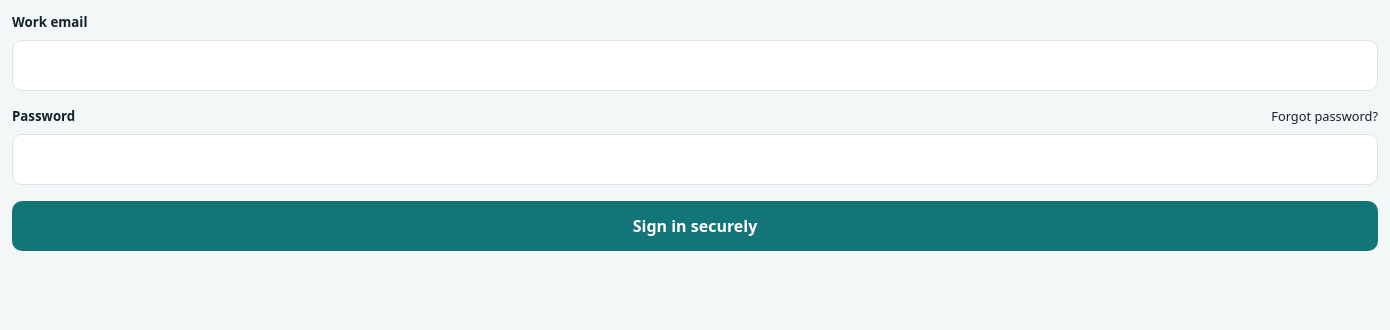
Test: LoginForm › shows a safe invalid-credentials message
Type "doctor@example.com" into the field labelled "Work email". click: (695,66)
box: [12, 40, 1378, 91]
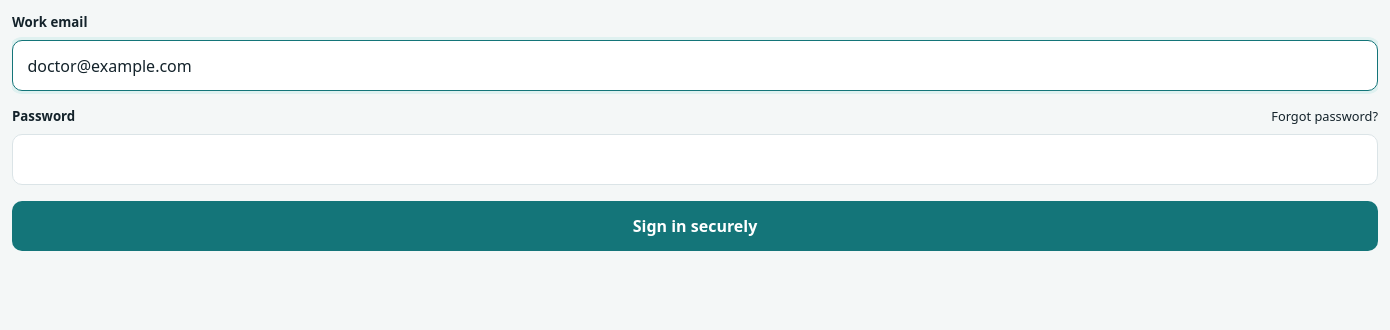
Type "wrong-password" into the password field labelled "Password". click: (695,160)
box: [12, 134, 1378, 185]
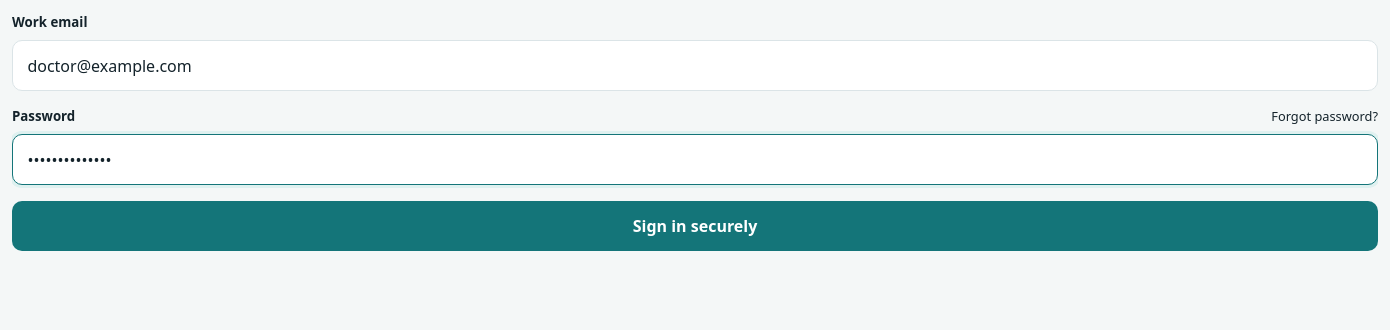
Click the button "Sign in securely". click: (695,226)
box: [12, 201, 1378, 251]
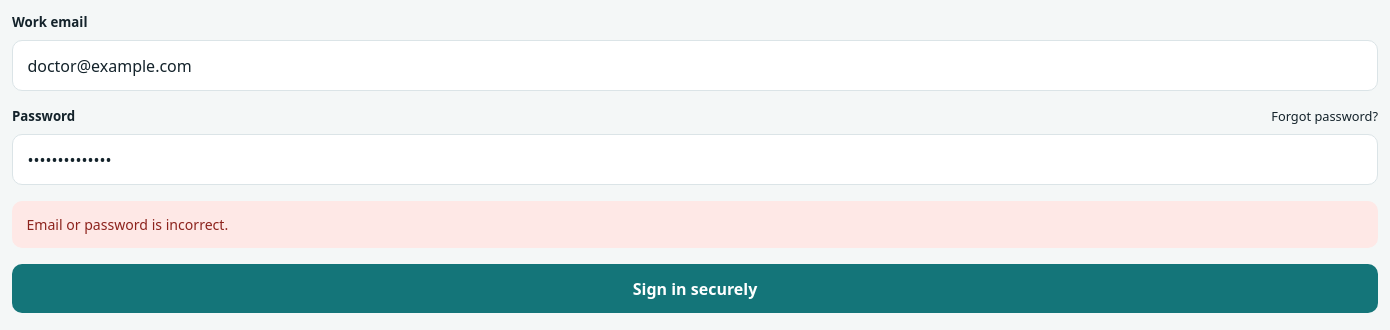
Expected: the message reads "Email or password is incorrect.", [26, 215, 228, 234]
